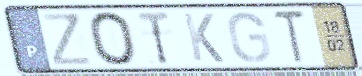G: (225, 10, 273, 65)
K: (180, 11, 227, 65)
O: (86, 10, 140, 69)
T: (135, 9, 173, 67), (270, 8, 308, 65)
Z: (39, 11, 95, 67)
